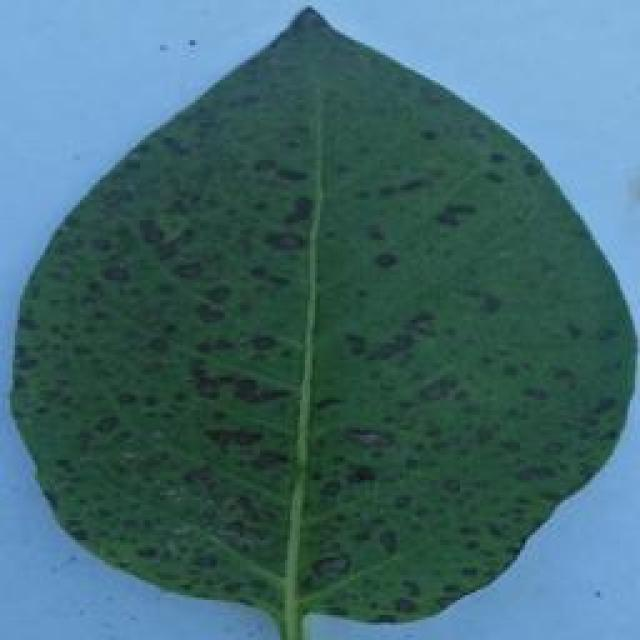Potato_Early_Blight: (13, 6, 640, 629)
